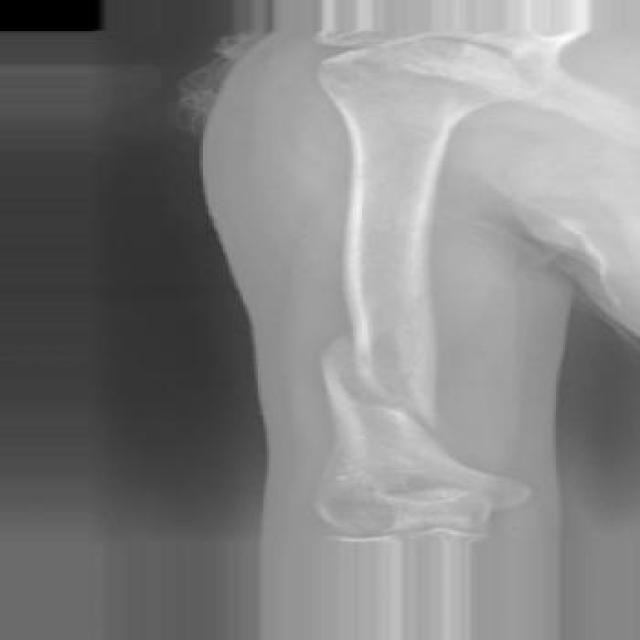Fracture: (282, 333, 484, 442)
